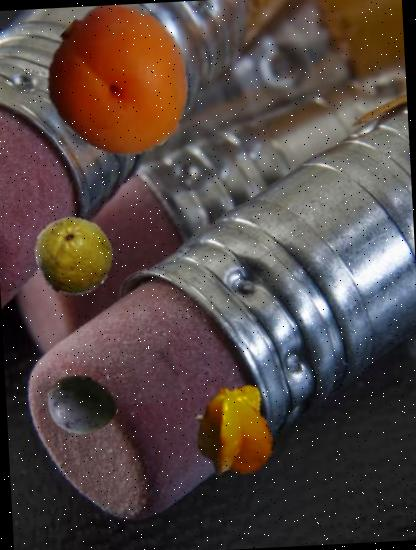Apricot: (43, 1, 200, 158)
Carambula: (183, 378, 286, 482)
Guava: (31, 214, 115, 298)
Plum: (43, 367, 121, 444)
